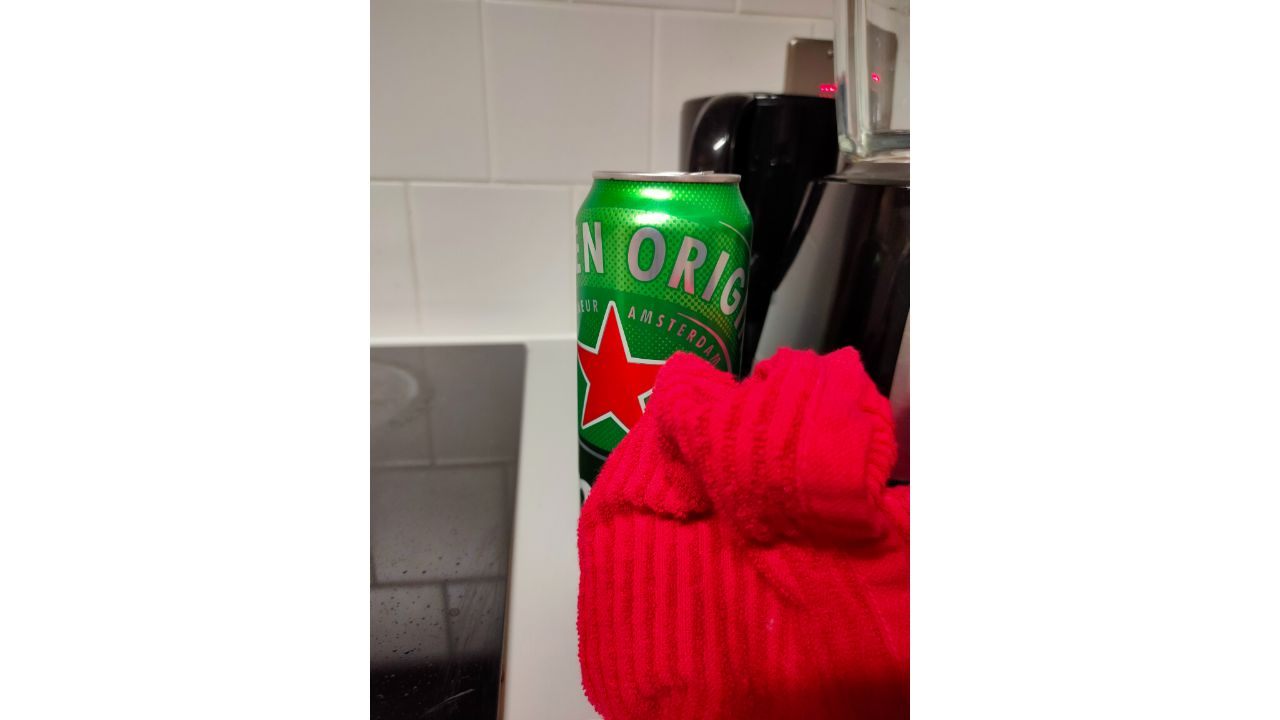Can: (571, 172, 754, 529)
